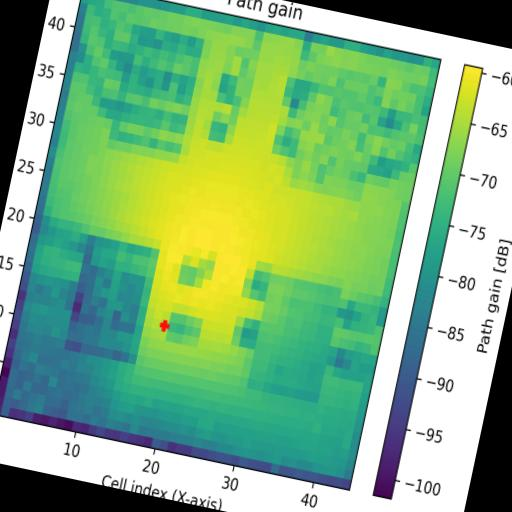Concrete: (288, 64, 388, 202)
Glass: (106, 24, 204, 164)
Metal: (244, 274, 342, 404)
Wood: (64, 236, 158, 364)
